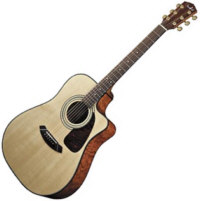guitar: (1, 1, 198, 199)
